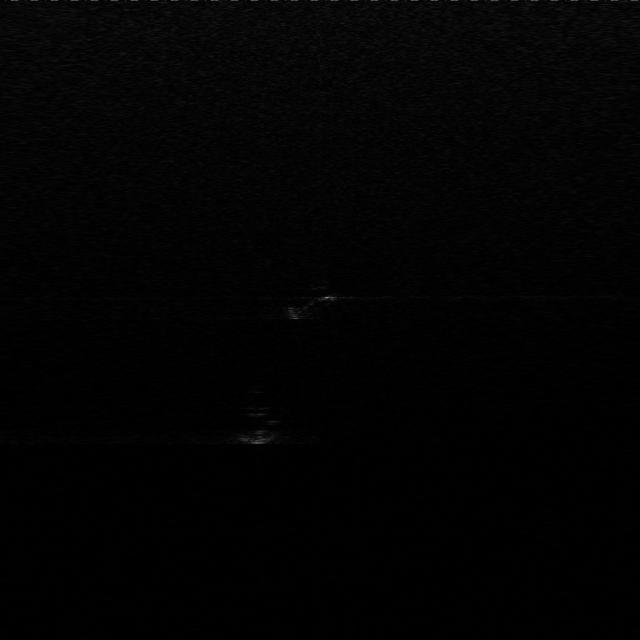ball: (223, 400, 289, 449)
tyre: (284, 284, 344, 324)
